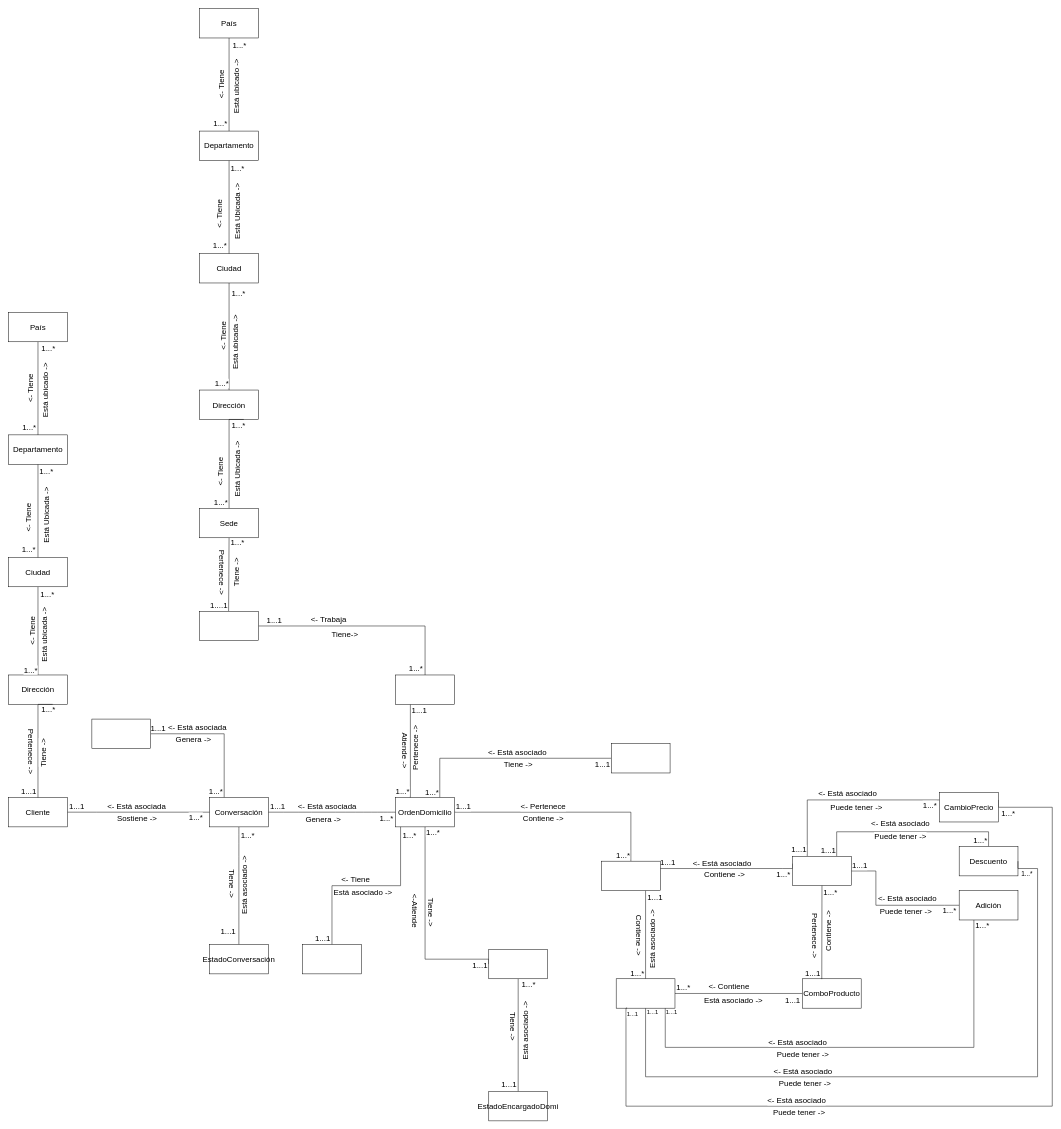
The diagram is 1061 pixels wide and 1129 high, and some of its shapes have lost their labels. The box of each missing label's shape, as (x1, y1, x2, y2) in pixels:
Chatbot: (91, 719, 151, 748)
Combo: (616, 978, 675, 1008)
Encargado Domicilio: (488, 949, 548, 979)
EstadoOrdenDomi: (302, 944, 361, 974)
Mesero: (395, 674, 454, 704)
MetodoPago: (611, 743, 670, 773)
OrdenProducto: (601, 861, 660, 891)
Producto: (792, 856, 851, 886)
Restaurante: (199, 611, 258, 641)
